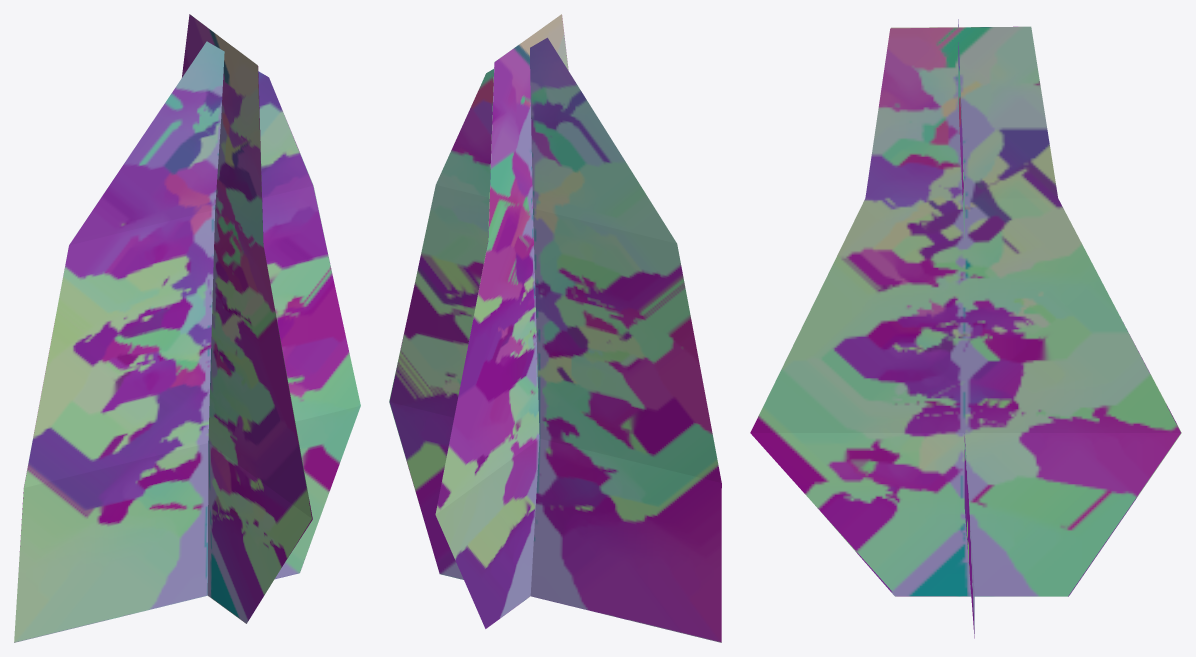
The model's file is maple_bush_01_cross.FBX.
3 renders of one model, left to right at view 1: azimuth 30°, elevation 25°; view 2: azimuth 150°, elevation 25°; view 3: azimuth 270°, elevation 25°, orthographic. The views are drawn at different scales.
Parts seen in each view (by area): view 1: maple_bush_01_cross; view 2: maple_bush_01_cross; view 3: maple_bush_01_cross.
Part boxes in pixels (box(x1,y1,x2,y2)): maple_bush_01_cross: box(14, 14, 360, 642); maple_bush_01_cross: box(389, 14, 721, 642); maple_bush_01_cross: box(750, 19, 1181, 638).
Size of the model in its own units: 52.77 by 82.97 by 56.12.
